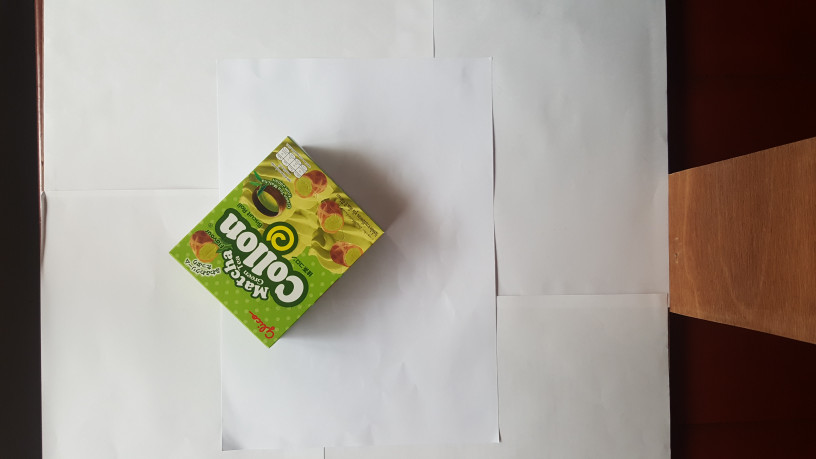collon-matcha: (166, 130, 385, 353)
